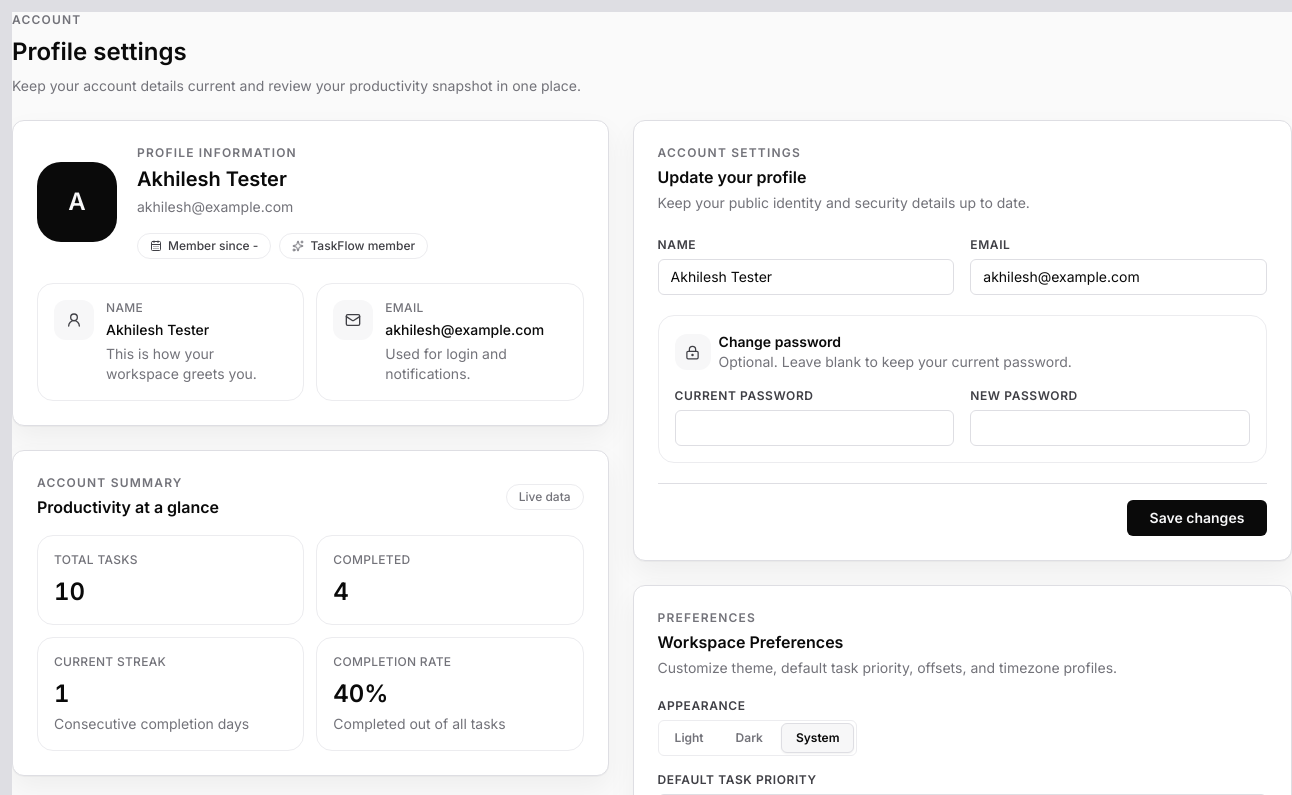
Test: Authentication & Profile Component Testing › ProfilePage & UserMenu Component › validates password change requires both current and new password
Type "currentPass123" into the password field labelled "Current password" at (814, 428), box 675,410 -> 954,446
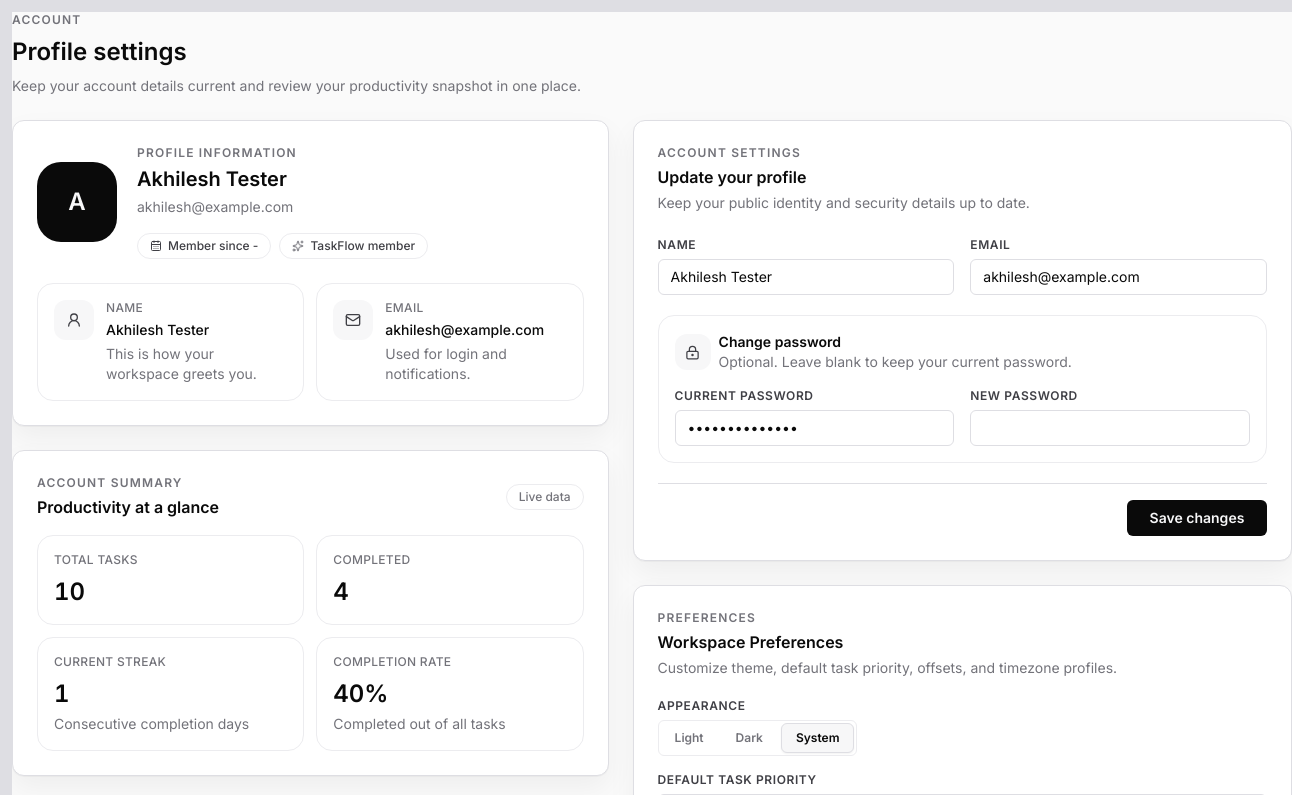
Click the button "Save changes" at (1197, 518), box 1127,500 -> 1267,536
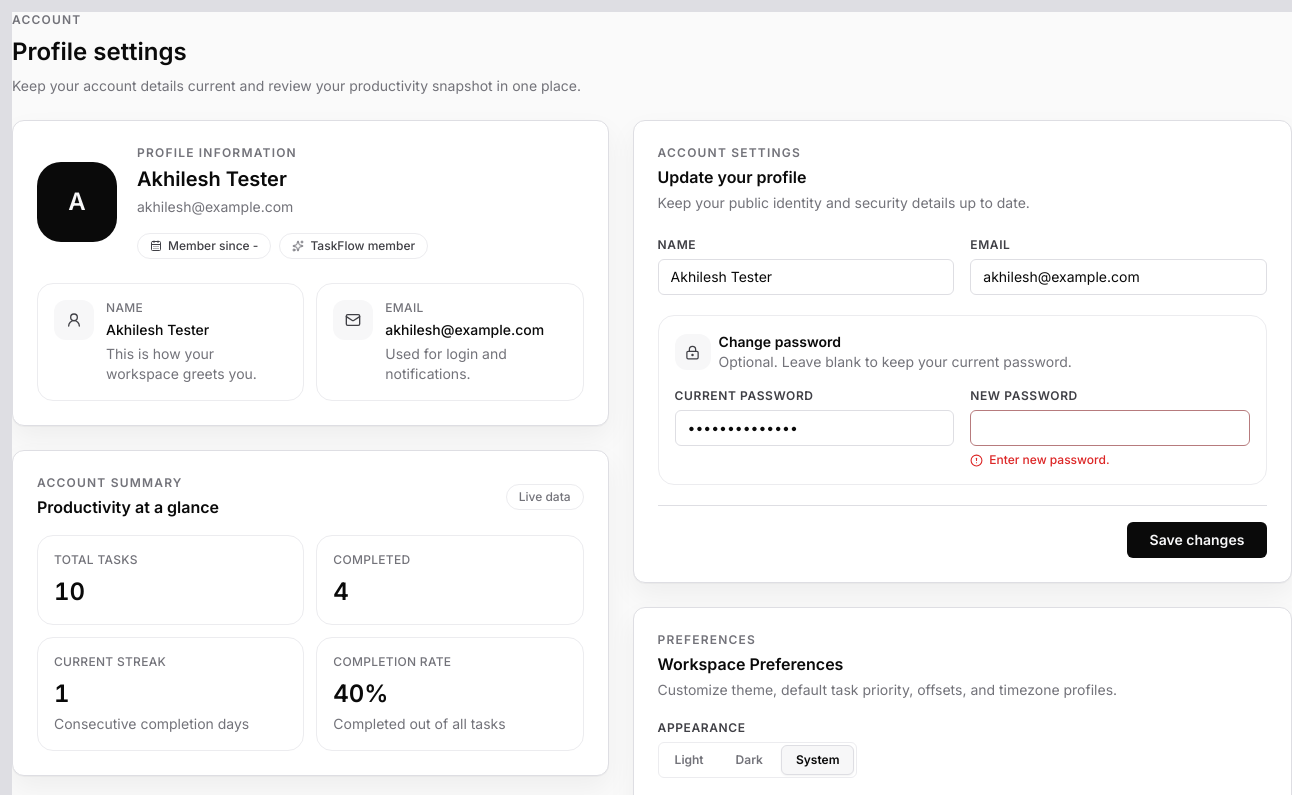
Check: the text "Enter new password." is shown, box 989,452 -> 1110,468
